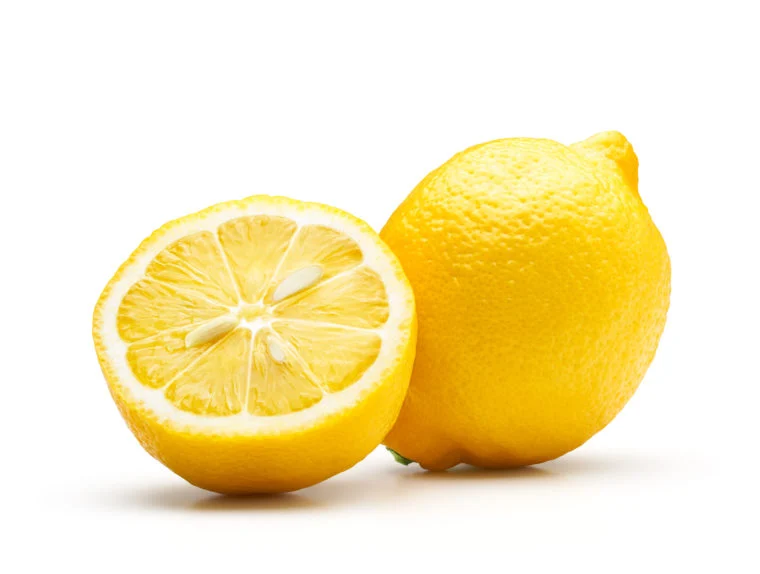food_waste: (379, 142, 688, 476), (122, 201, 399, 478)
